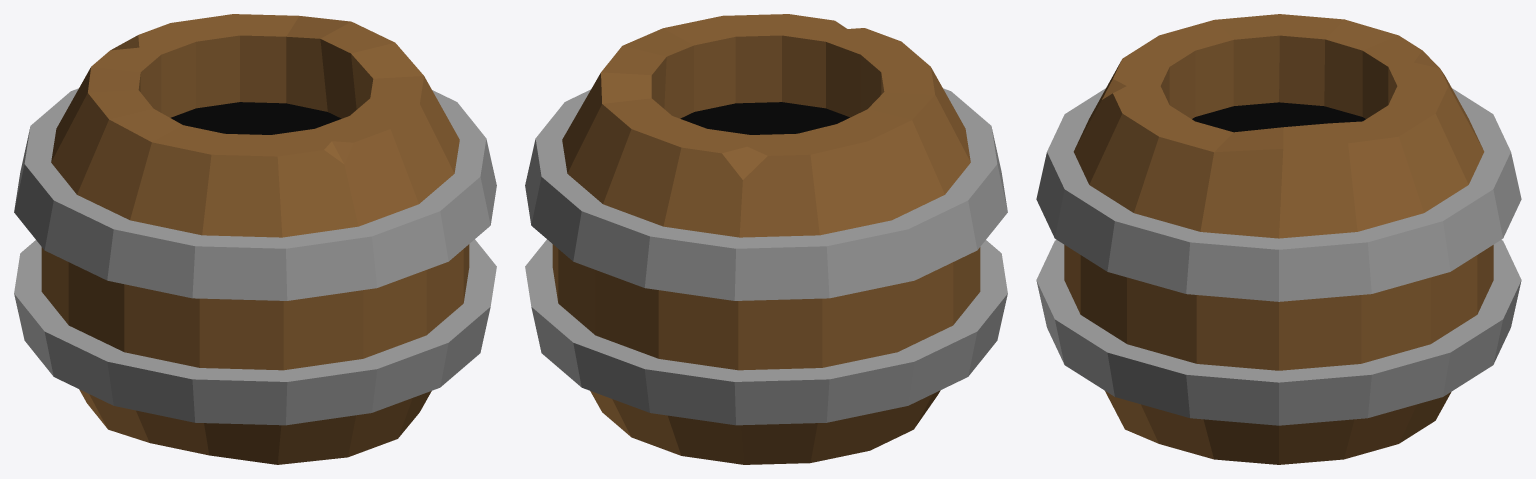
The model's file is Barrel_V2.fbx.
3 renders of one model, left to right at view 1: azimuth 30°, elevation 25°; view 2: azimuth 150°, elevation 25°; view 3: azimuth 270°, elevation 25°, orthographic.
Parts seen in each view (by area): view 1: Cylinder; view 2: Cylinder; view 3: Cylinder.
Boxes of the visible parts, x1,y1,x2,y2 form: Cylinder: (14,14,496,464); Cylinder: (525,14,1007,464); Cylinder: (1036,14,1521,464).
Bounding box in the file's own units: 286 × 207 × 286.
